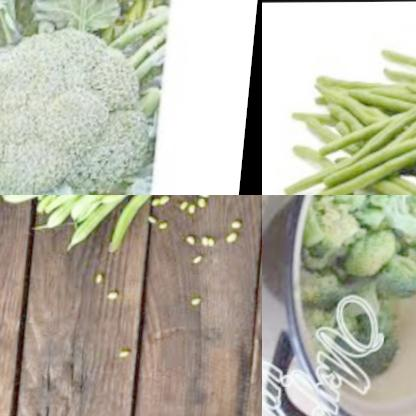beans: (272, 42, 416, 195), (0, 195, 253, 251), (178, 195, 213, 215), (184, 233, 220, 249), (150, 216, 177, 231), (189, 295, 213, 309), (188, 255, 213, 266), (118, 347, 137, 361), (96, 267, 107, 288), (153, 197, 172, 209), (223, 231, 240, 244), (109, 293, 123, 305), (229, 219, 242, 230)
broccoli: (0, 2, 180, 195), (283, 195, 416, 323)
